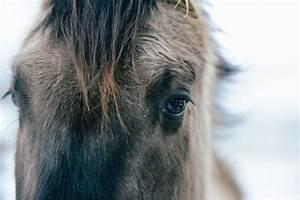horse: (2, 0, 246, 199)
